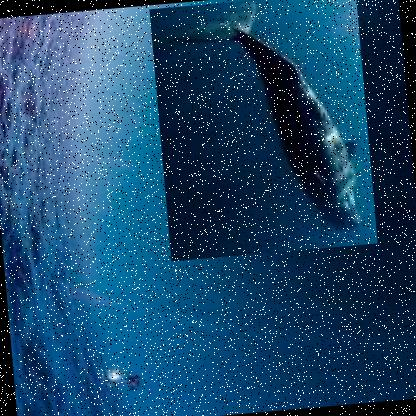blue_whale: (150, 0, 380, 263)
